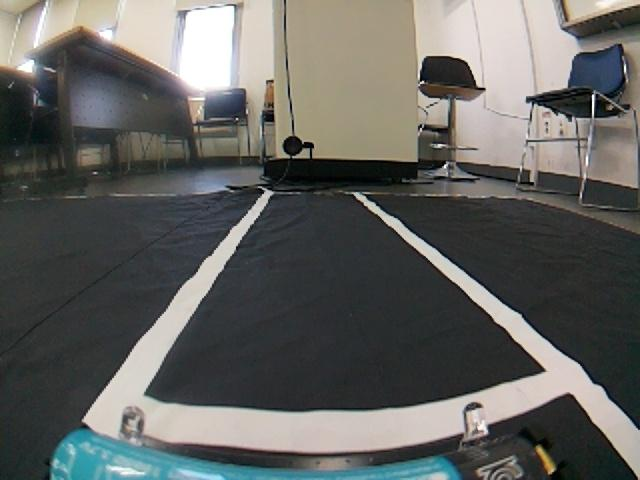straight: (0, 202, 640, 480)
